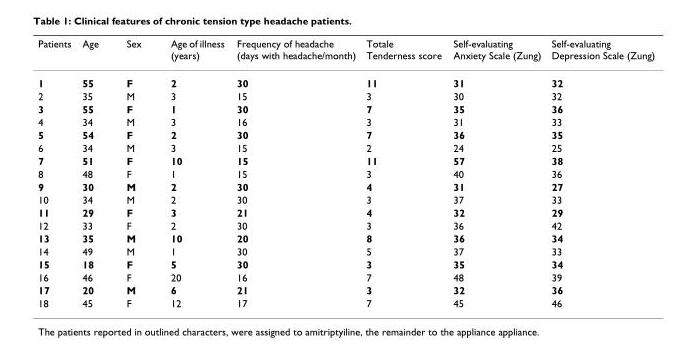table: (37, 37, 654, 308)
table column: (229, 37, 360, 308), (545, 37, 654, 308), (446, 37, 545, 308), (360, 37, 446, 308), (155, 37, 229, 308), (111, 37, 155, 308), (37, 37, 76, 308), (76, 37, 111, 308)
table column header: (37, 37, 654, 68)
table row: (37, 37, 654, 68), (37, 68, 654, 89), (37, 127, 654, 141), (37, 89, 654, 102), (37, 102, 654, 115), (37, 153, 654, 166), (37, 166, 654, 179), (37, 179, 654, 192), (37, 192, 654, 205), (37, 205, 654, 218), (37, 218, 654, 231), (37, 231, 654, 244), (37, 244, 654, 257), (37, 257, 654, 270), (37, 270, 654, 283), (37, 283, 654, 296), (37, 115, 654, 127), (37, 141, 654, 153), (37, 296, 654, 308)
